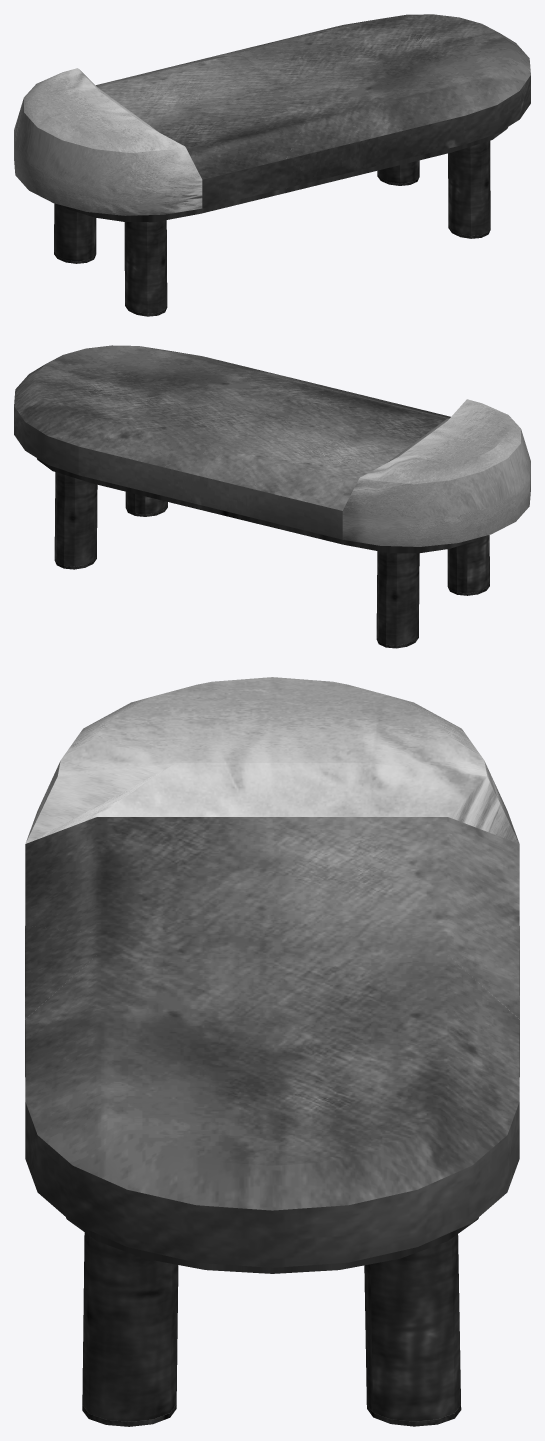
Rendered from Bed.fbx.
3 renders of one model, top to bottom at view 1: azimuth 30°, elevation 25°; view 2: azimuth 150°, elevation 25°; view 3: azimuth 270°, elevation 25°, orthographic. The views are drawn at different scales.
Visible parts, largest first — view 1: Bed; view 2: Bed; view 3: Bed.
Part boxes in pixels (left/top/right/bottom): Bed: left=14, top=14, right=530, bottom=316; Bed: left=14, top=345, right=530, bottom=648; Bed: left=25, top=677, right=519, bottom=1426.
Size of the model in its own units: 11.1 by 3.91 by 4.88.
